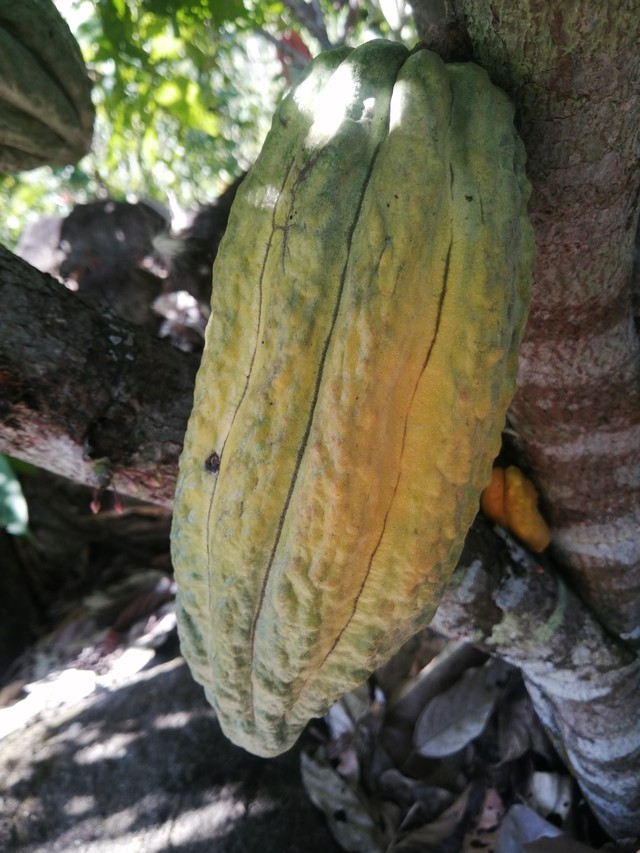Health: (139, 22, 554, 763)
